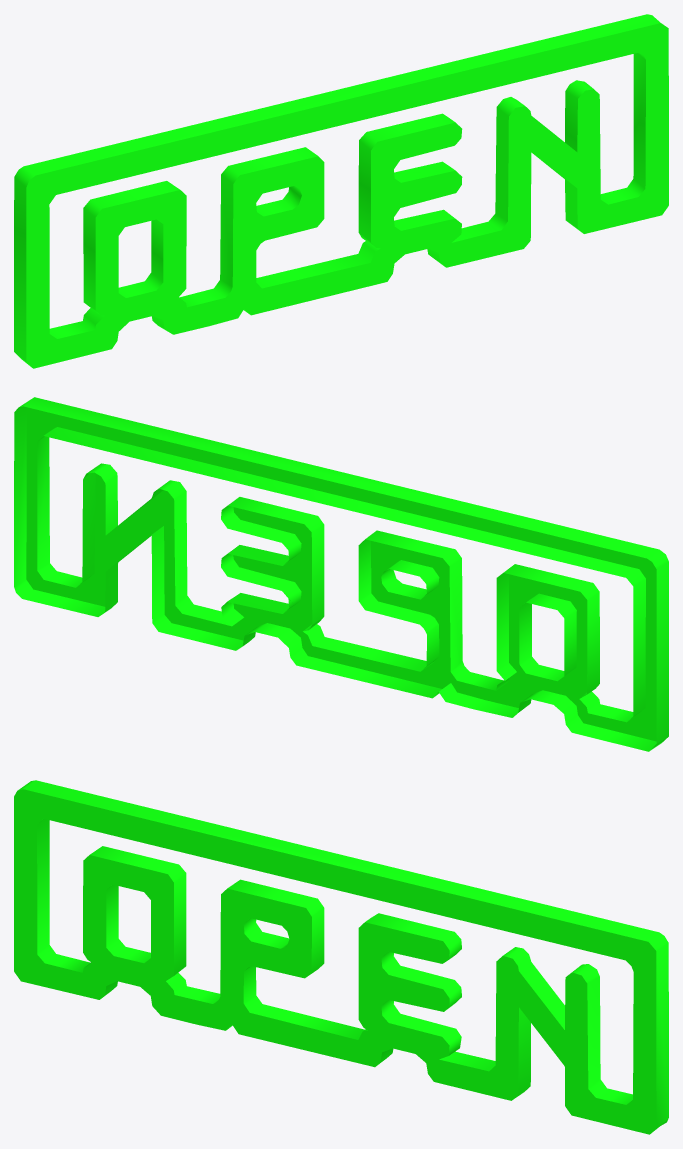
File: Open_Sign.glb
3 views of the same model, one above another, from view 1: azimuth 30°, elevation 25°; view 2: azimuth 150°, elevation 25°; view 3: azimuth 330°, elevation 25° (orthographic).
Parts seen in each view (by area): view 1: open; view 2: open; view 3: open.
Part boxes in pixels (x1,y1,x2,y2): open: (14,14,668,368); open: (14,397,668,751); open: (14,780,668,1134).
Bounding box in the file's own units: 0.8214 × 0.2358 × 0.0273.
Materials: 1 (1 with a texture image).
